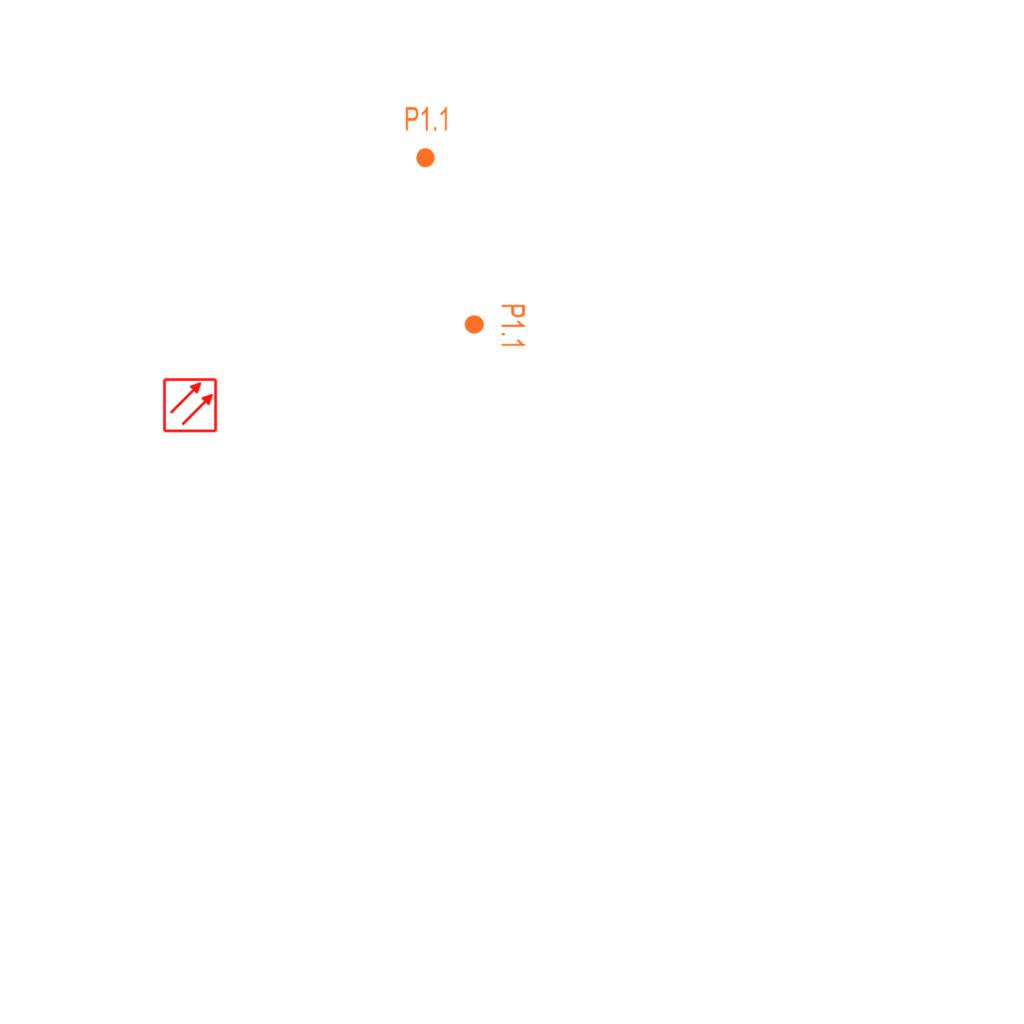Downlight_LED_Einbauleuchten_Flur: (463, 303, 527, 349), (404, 105, 450, 169)
RMO_Rauchmelder_optischer: (162, 377, 218, 433)
